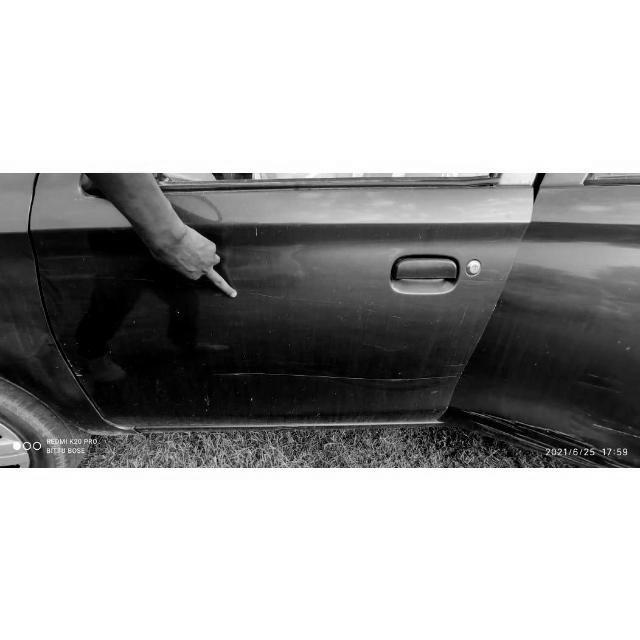doorouter-dent: (79, 195, 466, 428)
